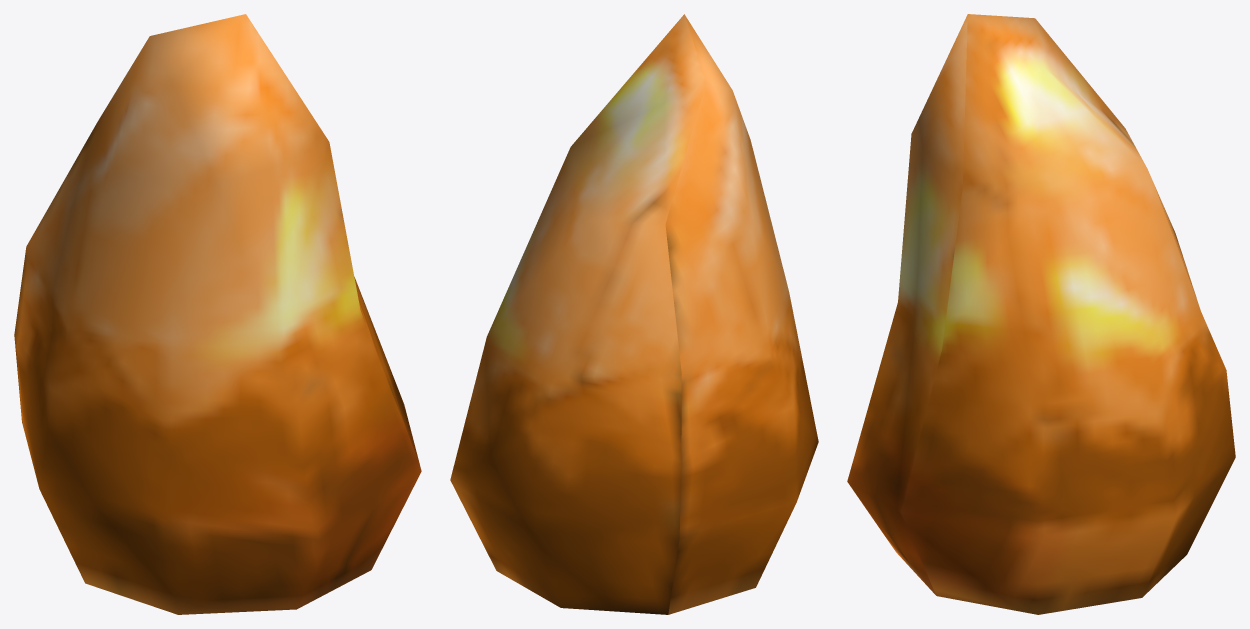
File: jingshi4.FBX
The picture shows the model from 3 angles, left to right: view 1: azimuth 30°, elevation 25°; view 2: azimuth 150°, elevation 25°; view 3: azimuth 270°, elevation 25°; orthographic projection. The views are drawn at different scales.
Parts seen in each view (by area): view 1: JiTan01; view 2: JiTan01; view 3: JiTan01.
Part boxes in pixels (x1=…): JiTan01: x1=14, y1=14, x2=421, y2=614; JiTan01: x1=450, y1=14, x2=818, y2=614; JiTan01: x1=847, y1=14, x2=1235, y2=614.
Bounding box in the file's own units: 2456 × 3714 × 2456.
